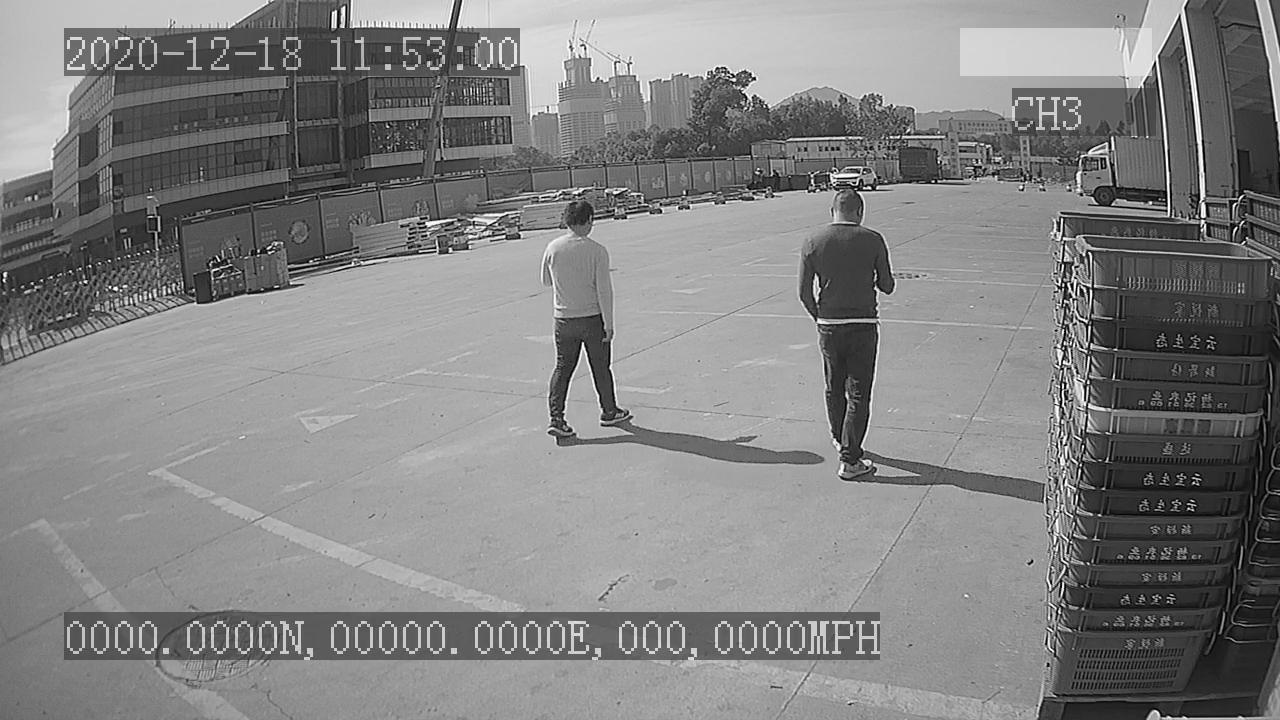person: (790, 185, 901, 483), (529, 199, 638, 445)
